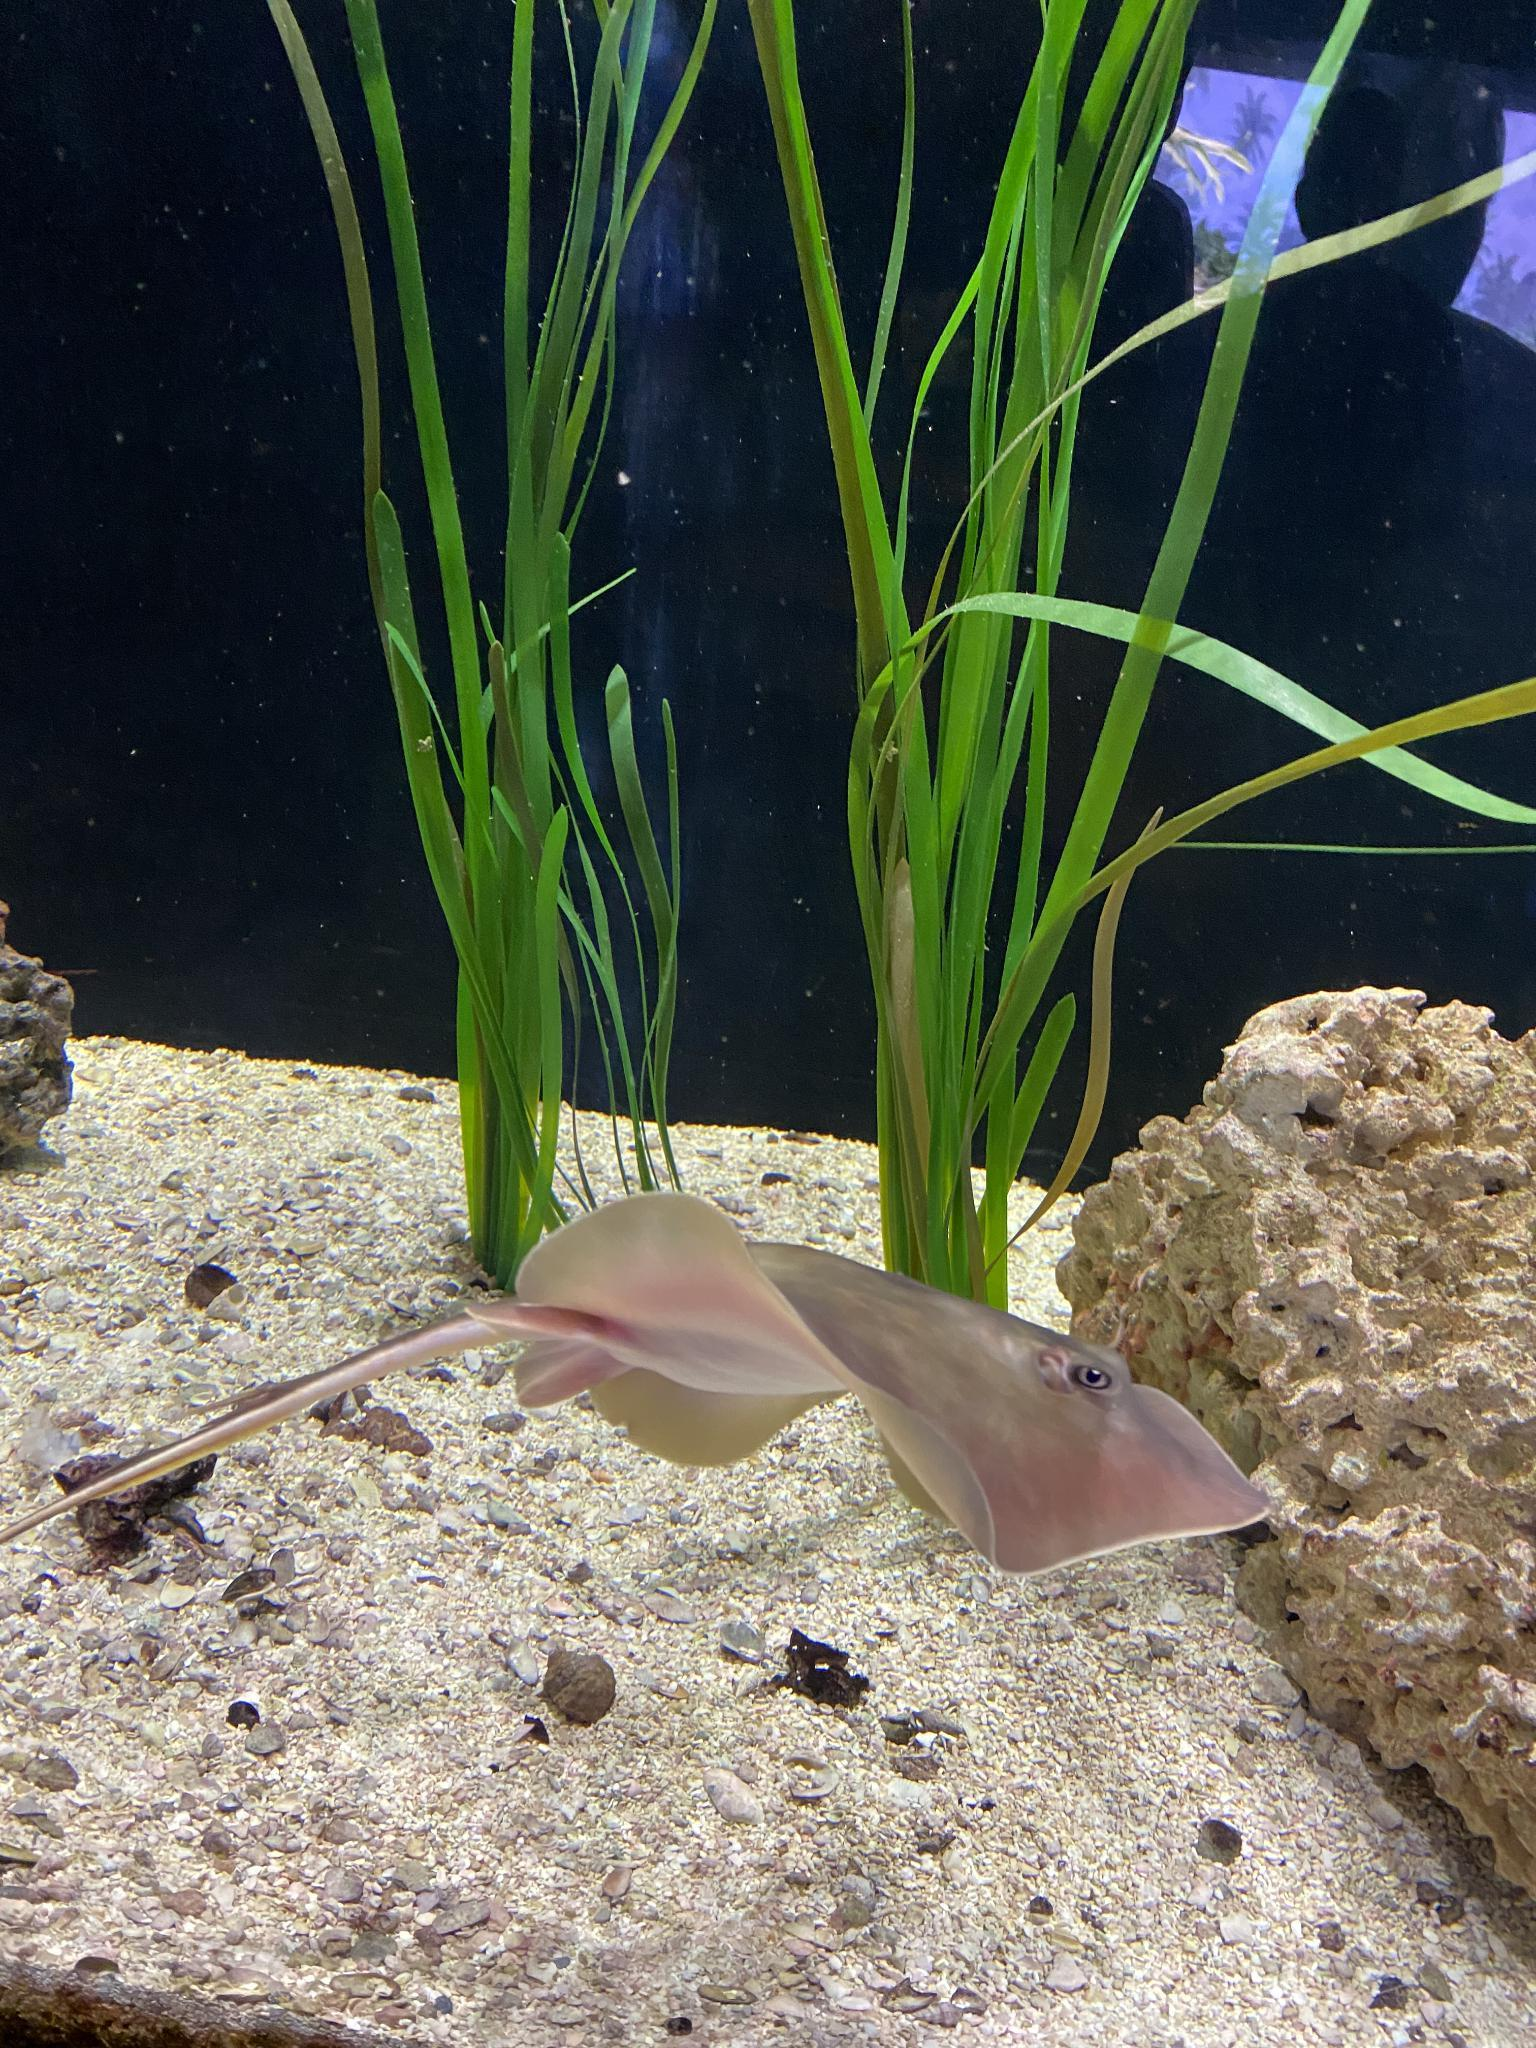stingray: (486, 1192, 1283, 1622)
